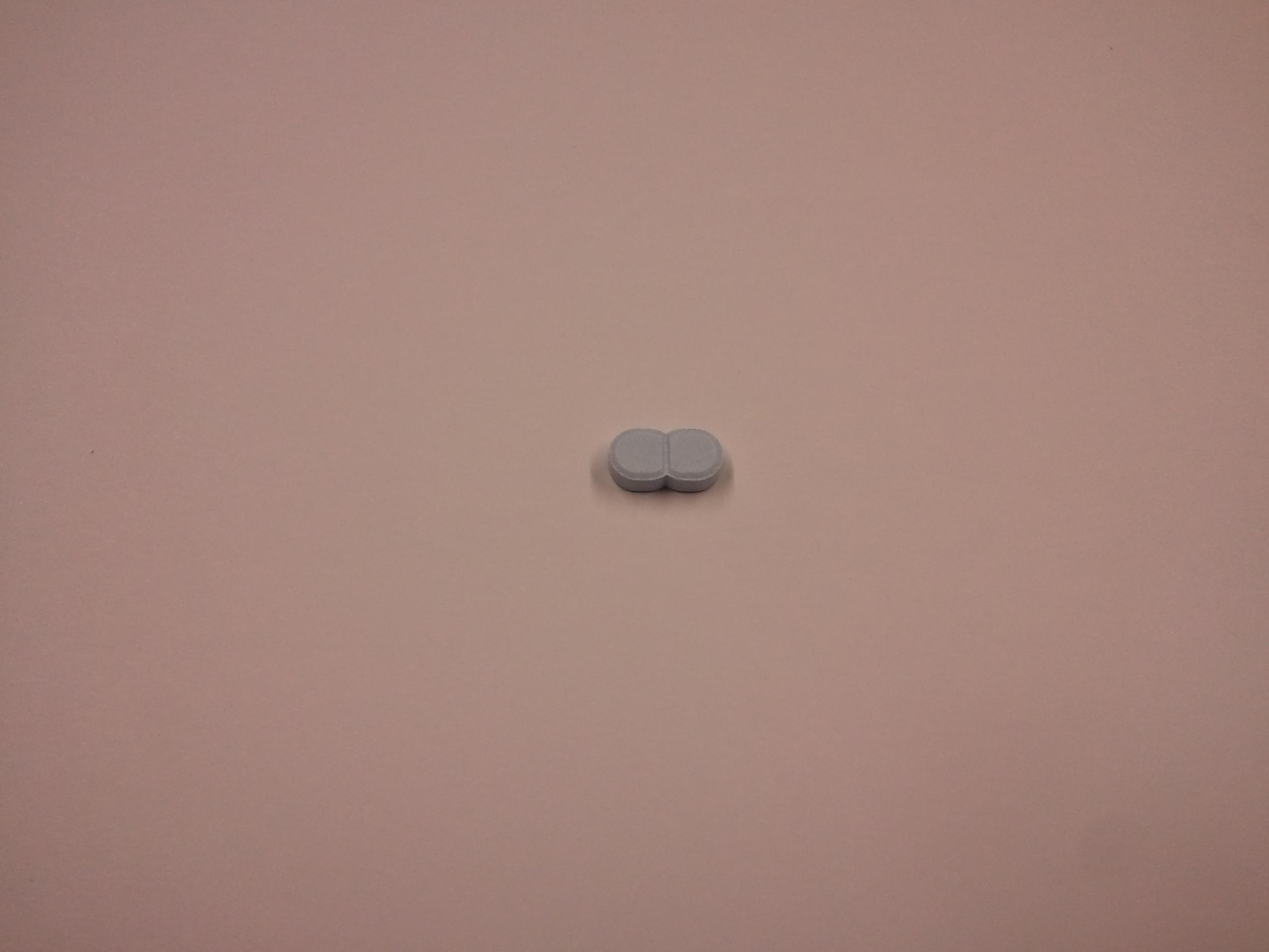Pill: (592, 408, 754, 508)
